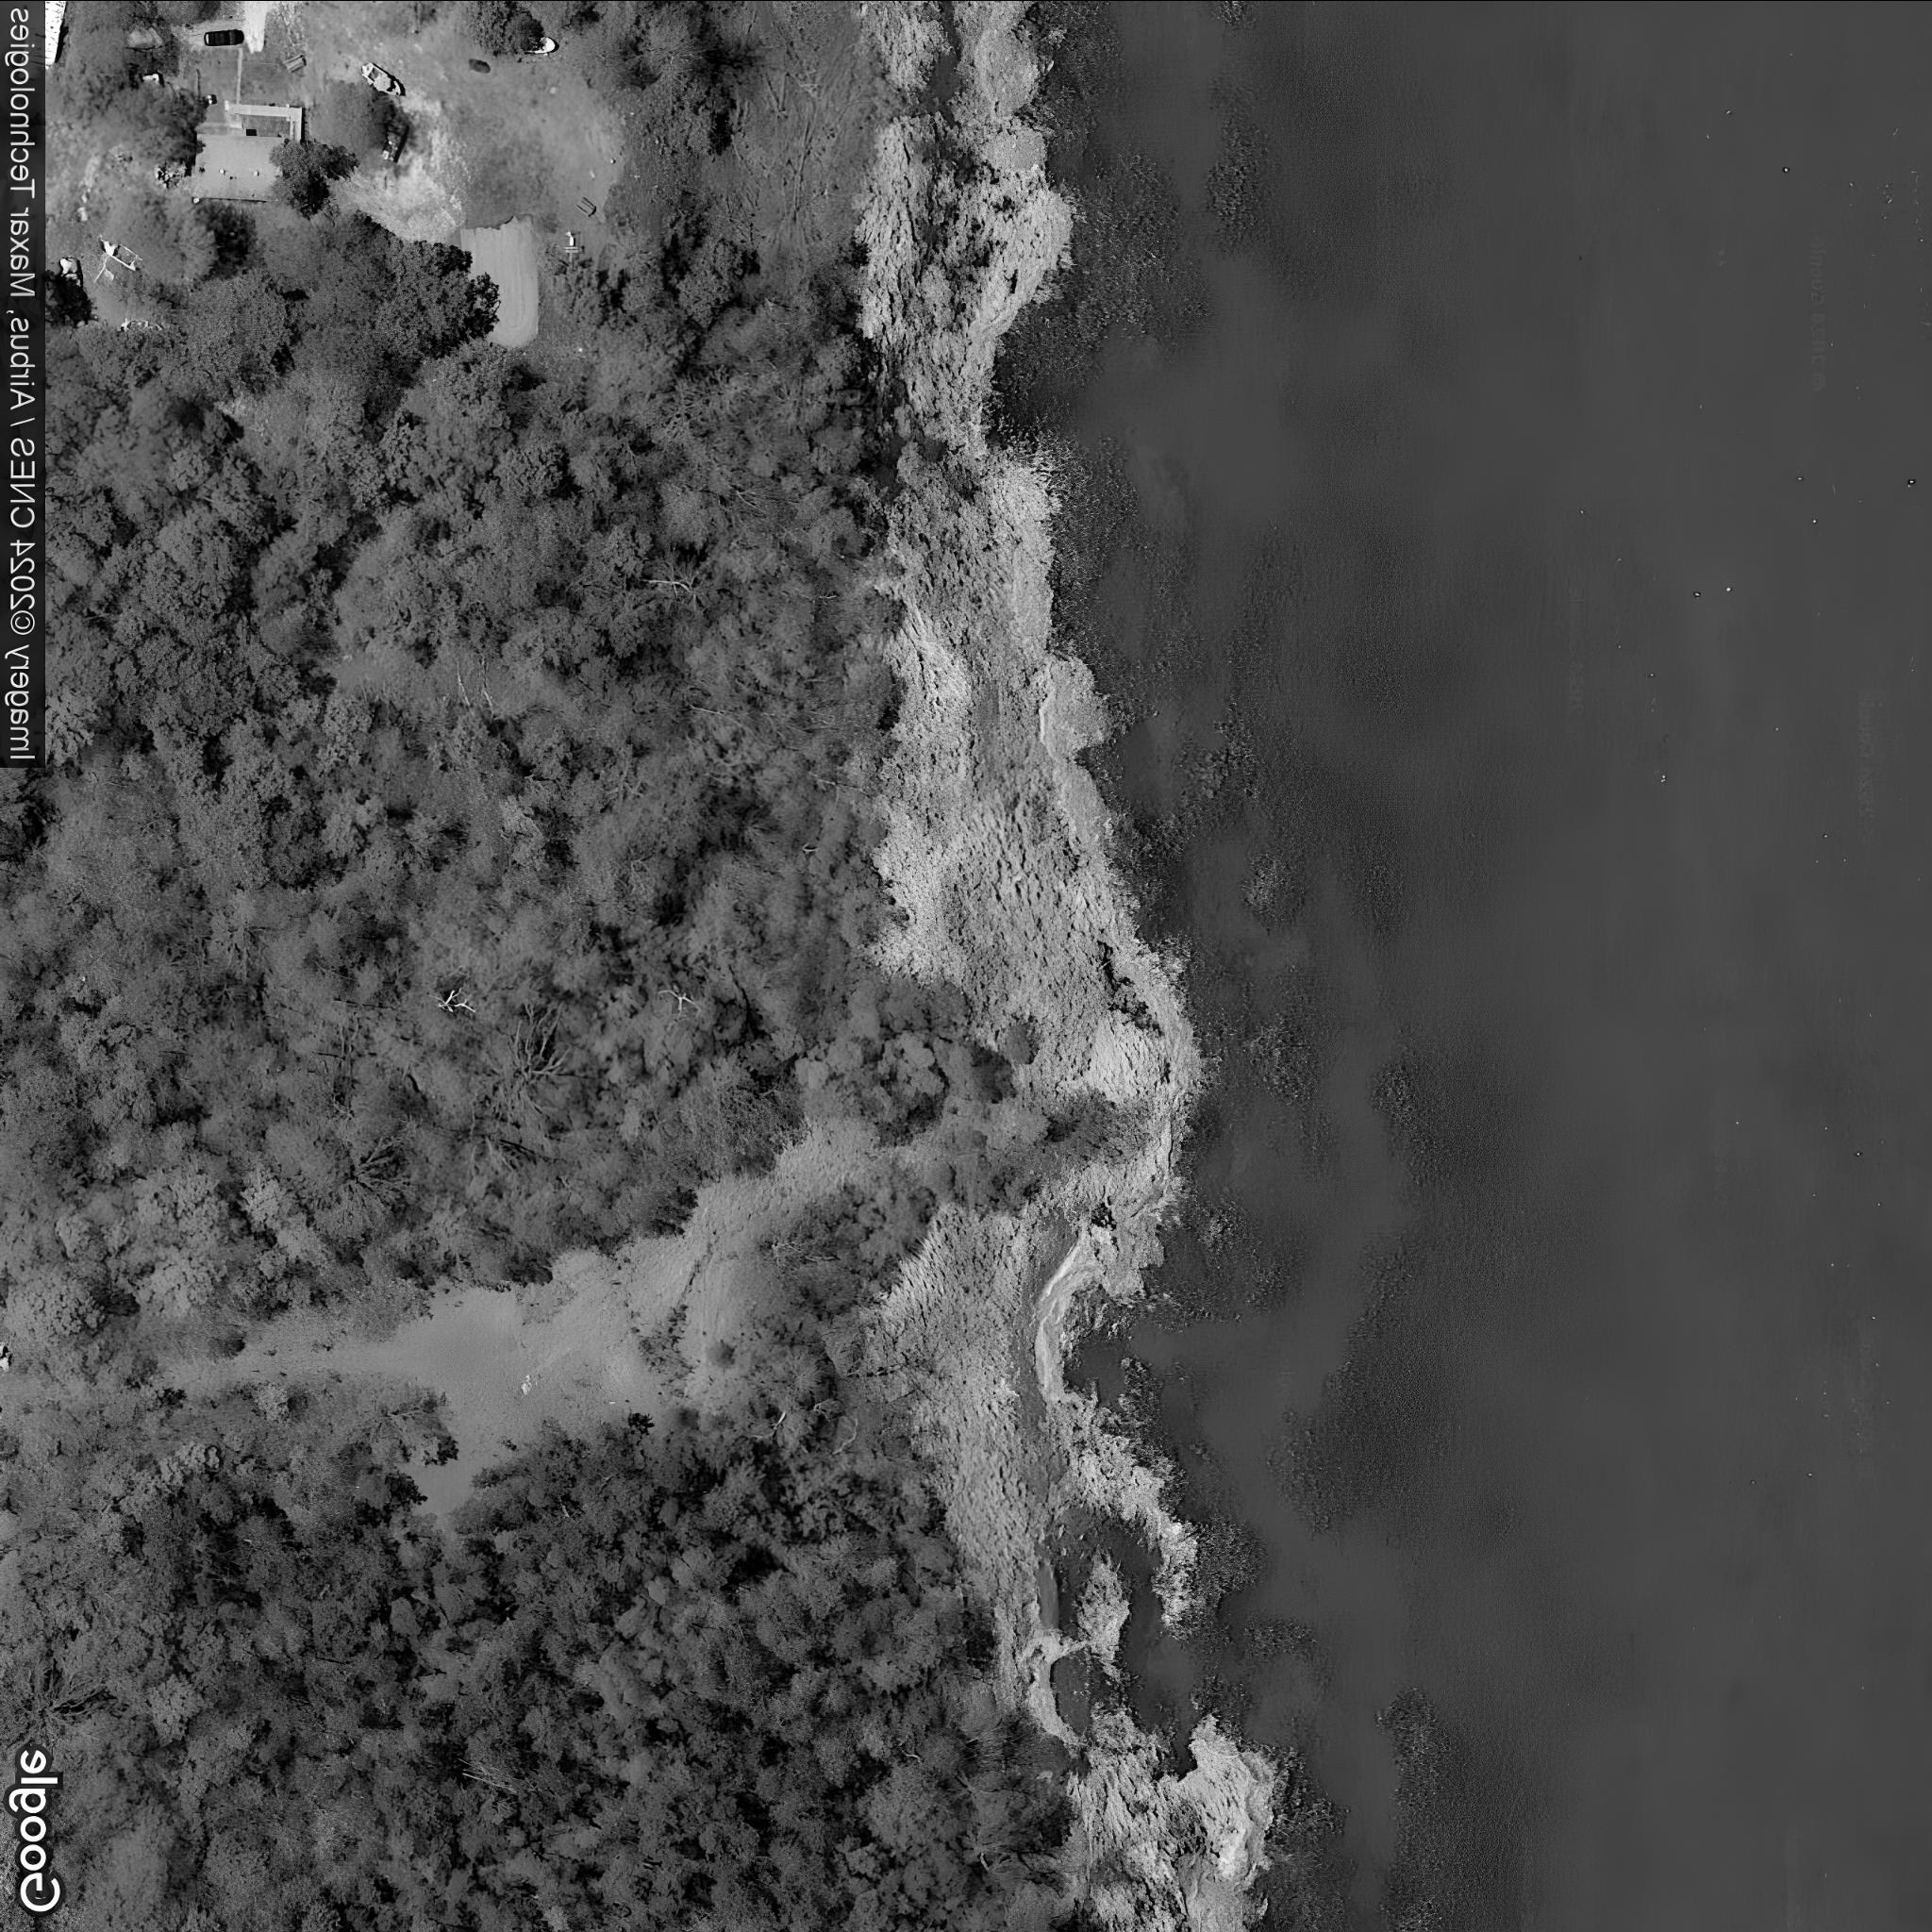House: (189, 129, 287, 202)
